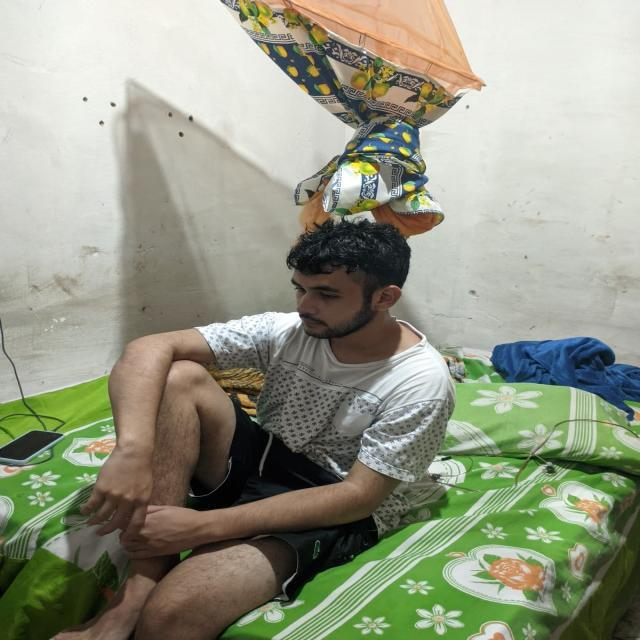sentado: (81, 216, 455, 639)
